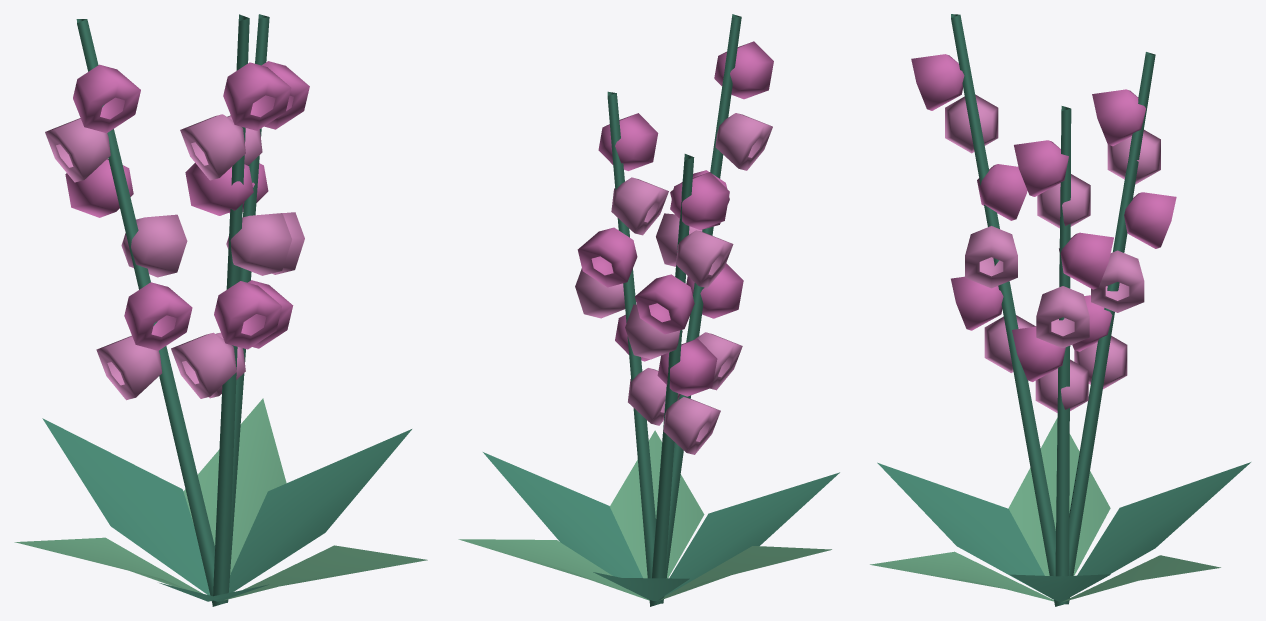
Rendered from foxglove.glb.
3 renders of one model, left to right at view 1: azimuth 30°, elevation 25°; view 2: azimuth 150°, elevation 25°; view 3: azimuth 270°, elevation 25°, orthographic. The views are drawn at different scales.
Visible parts, largest first — view 1: foxglove; view 2: foxglove; view 3: foxglove.
Boxes of the visible parts, x1=… form: foxglove: x1=14, y1=14, x2=427, y2=606; foxglove: x1=458, y1=14, x2=839, y2=606; foxglove: x1=870, y1=14, x2=1250, y2=606.
Size of what is drawn, in the model's own units: 0.853 by 1.3 by 0.7846.
